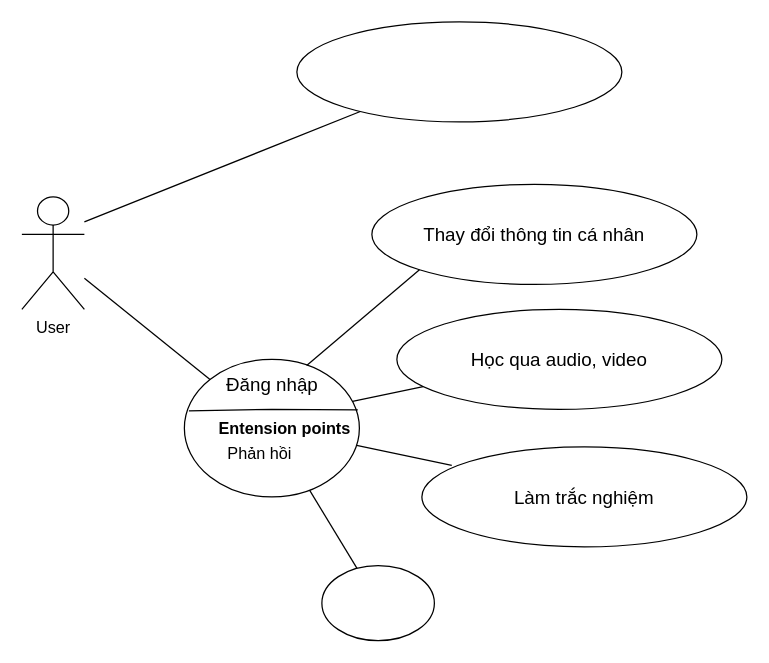
Image size: 769x663. Some labels were removed from this diagram. Here are the shapes that lost their labels. From the top down, the centre of each, then its label:
the point at 459,71: Đăng kí thông tin cá nhân
the point at 377,602: Sign out
